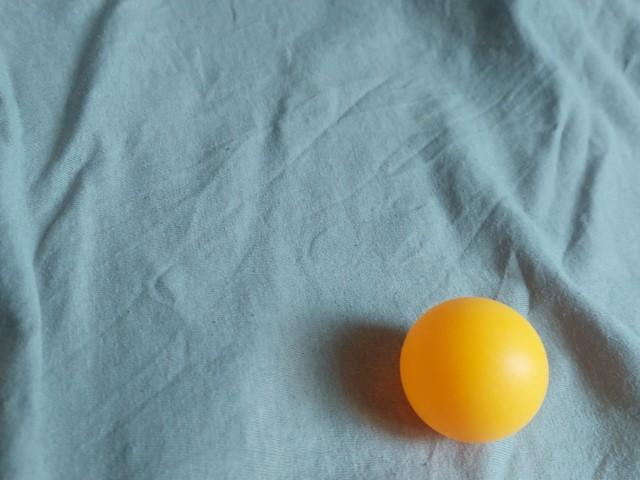oball: (390, 290, 558, 450)
